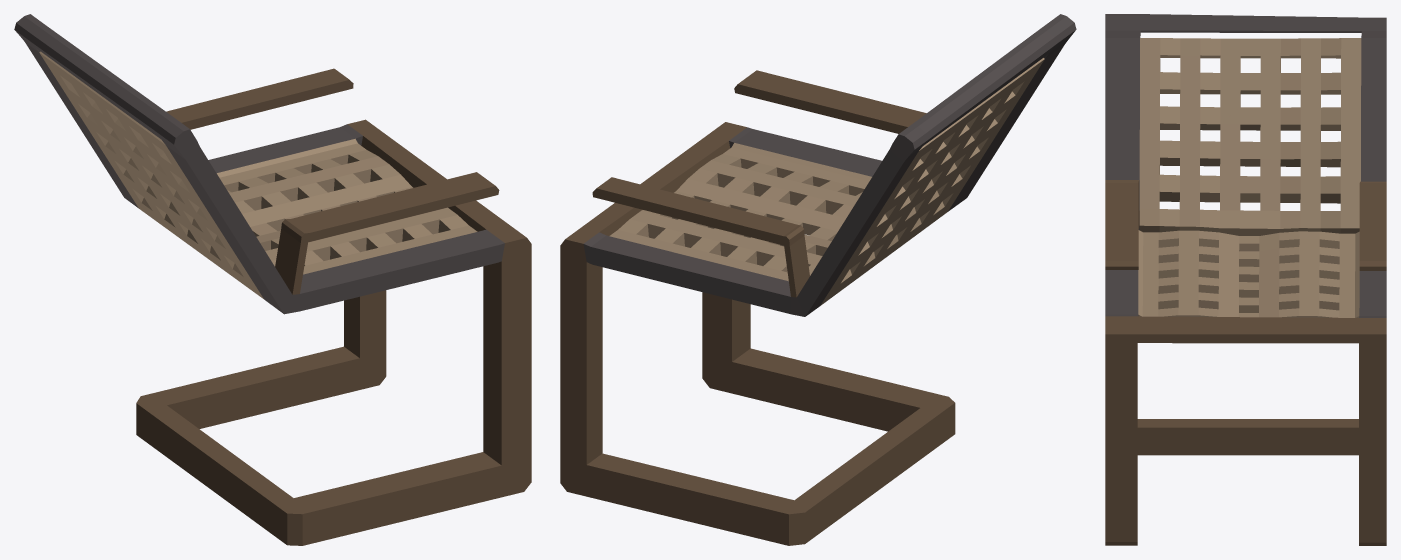
The model's file is Silla de Exterior.fbx.
3 renders of one model, left to right at view 1: azimuth 30°, elevation 25°; view 2: azimuth 150°, elevation 25°; view 3: azimuth 270°, elevation 25°, orthographic. The views are drawn at different scales.
Parts seen in each view (by area): view 1: Silla_de_Exterior; view 2: Silla_de_Exterior; view 3: Silla_de_Exterior.
Boxes of the visible parts, x1=… form: Silla_de_Exterior: x1=14, y1=14, x2=531, y2=545; Silla_de_Exterior: x1=560, y1=14, x2=1076, y2=545; Silla_de_Exterior: x1=1105, y1=14, x2=1386, y2=545.
Size of the model in its own units: 1.39 by 1.65 by 1.09.
